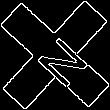N_NW: (23, 23, 87, 87)
